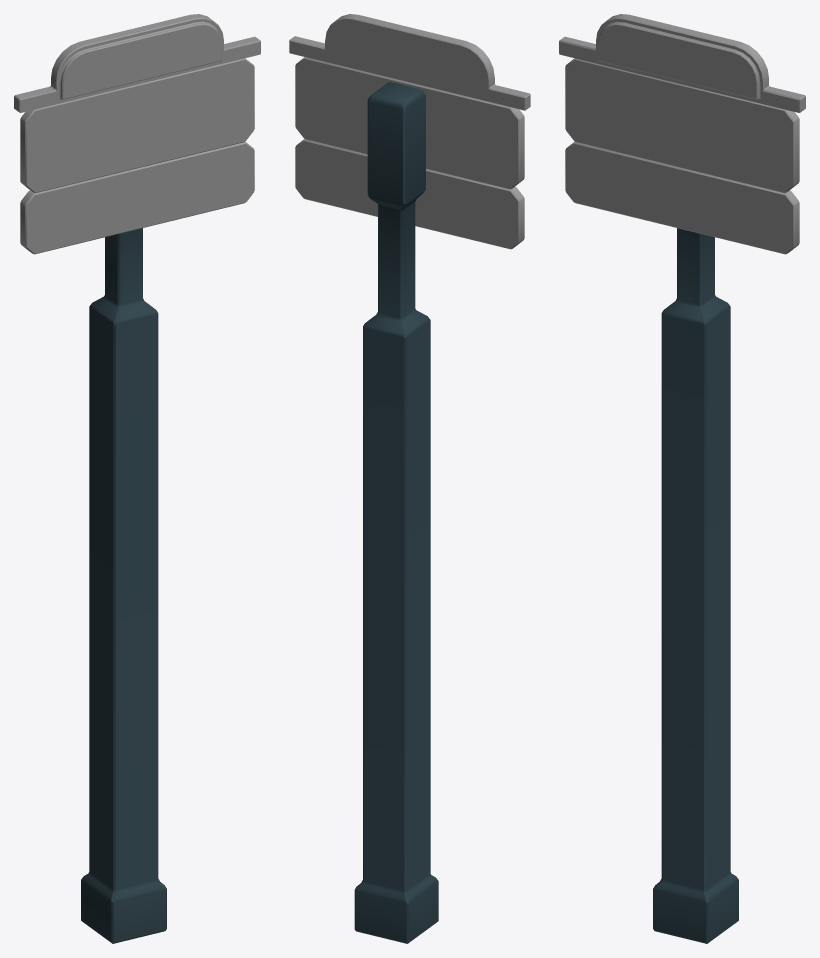
File: props_75.glb
The picture shows the model from 3 angles, left to right: view 1: azimuth 30°, elevation 25°; view 2: azimuth 150°, elevation 25°; view 3: azimuth 330°, elevation 25°; orthographic projection. The views are drawn at different scales.
Parts seen in each view (by area): view 1: props_75; view 2: props_75; view 3: props_75.
Boxes of the visible parts, x1,y1,x2,y2 form: props_75: (14,14,260,943); props_75: (289,14,530,943); props_75: (559,14,805,943).
Size of the model in its own units: 0.7722 by 2.77 by 0.1911.
Materials: 1 (1 with a texture image).
